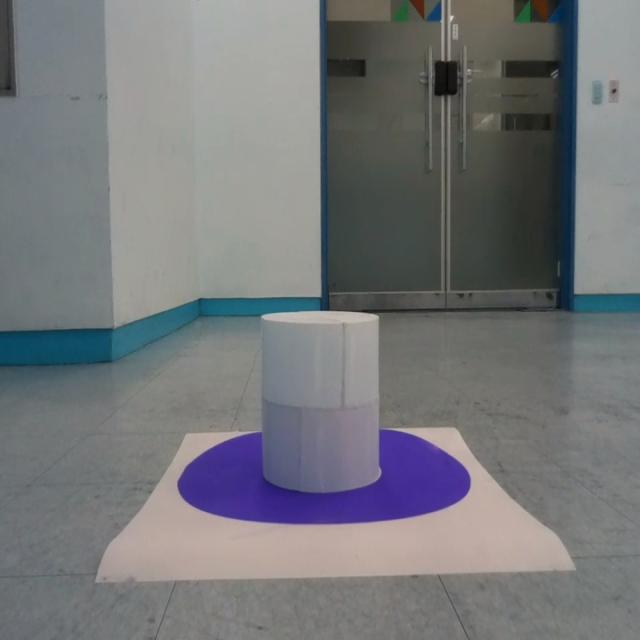cylinder: (260, 311, 381, 494)
